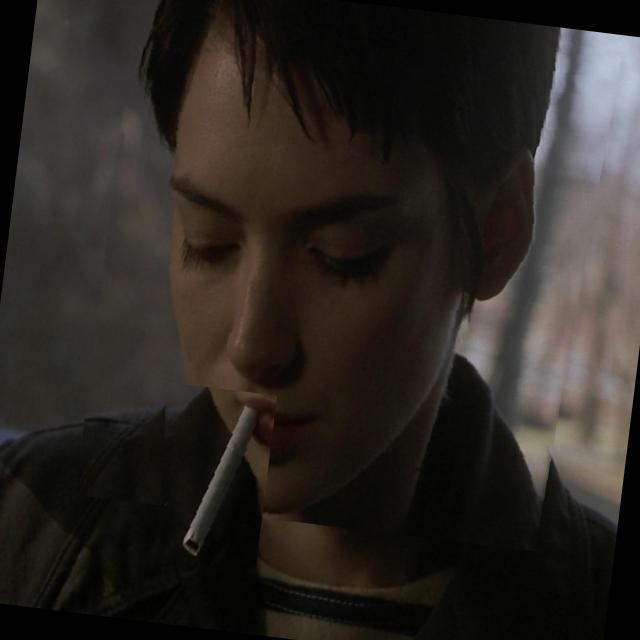cigarette: (144, 382, 276, 576)
